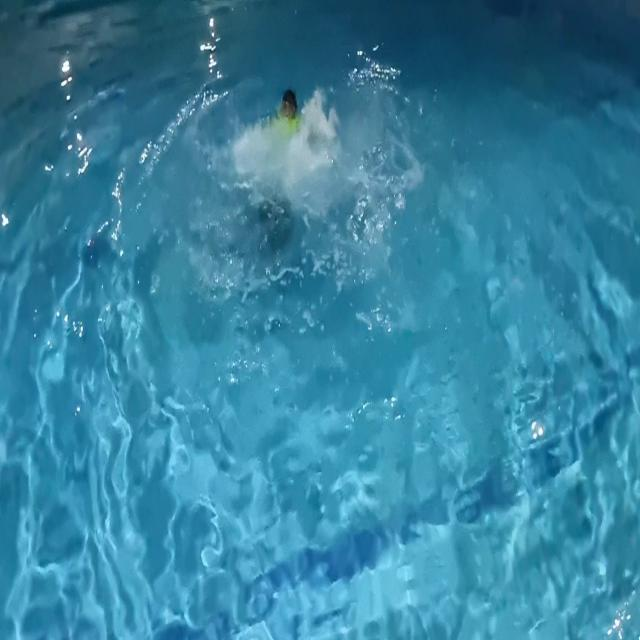Drowning: (216, 31, 345, 227)
